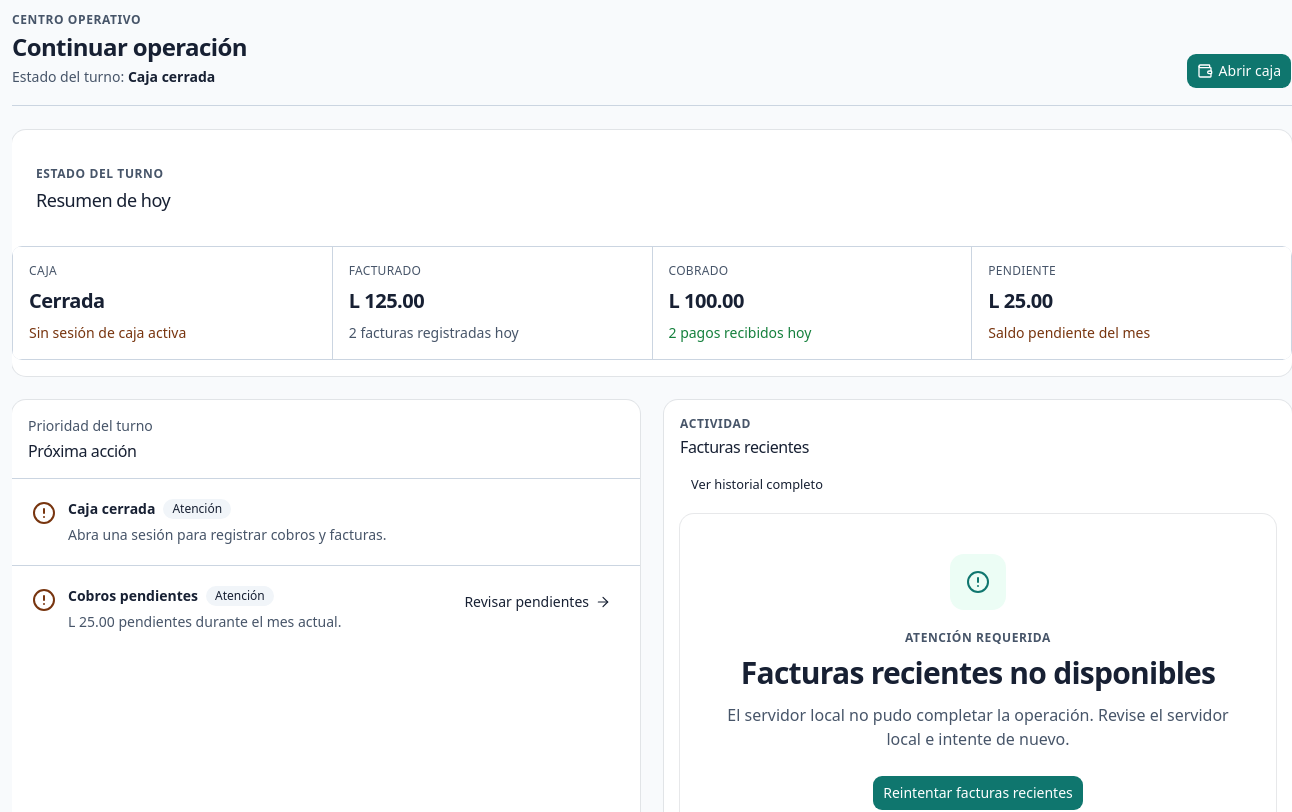
Scenario: DashboardView › presenta el error de facturas recientes sin convertirlo en estado vacío y permite reintentar
Expected: the heading "Facturas recientes no disponibles" is shown, left=712, top=654, right=1244, bottom=691
Click the button "Reintentar facturas recientes": [978, 793] box left=872, top=775, right=1084, bottom=811
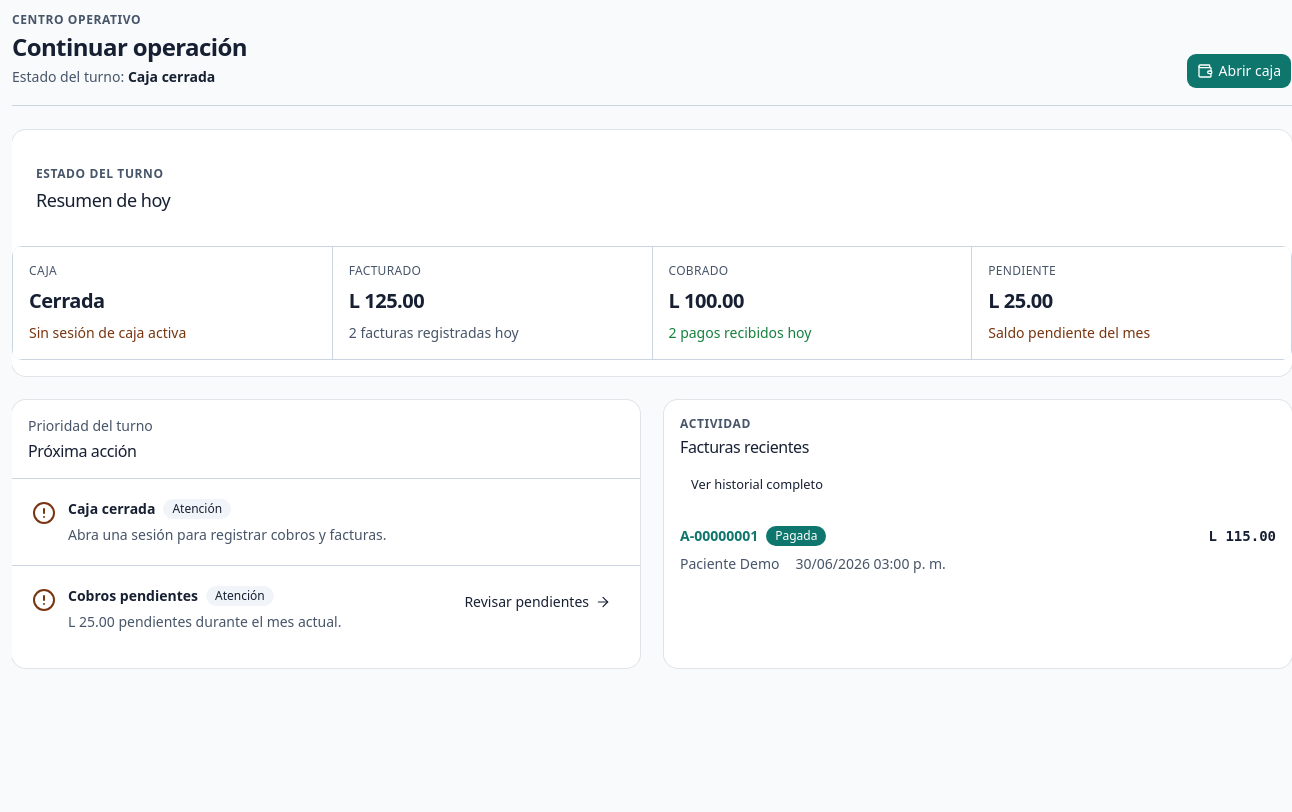
Result: the text "Paciente Demo" is shown at left=680, top=554, right=780, bottom=574
